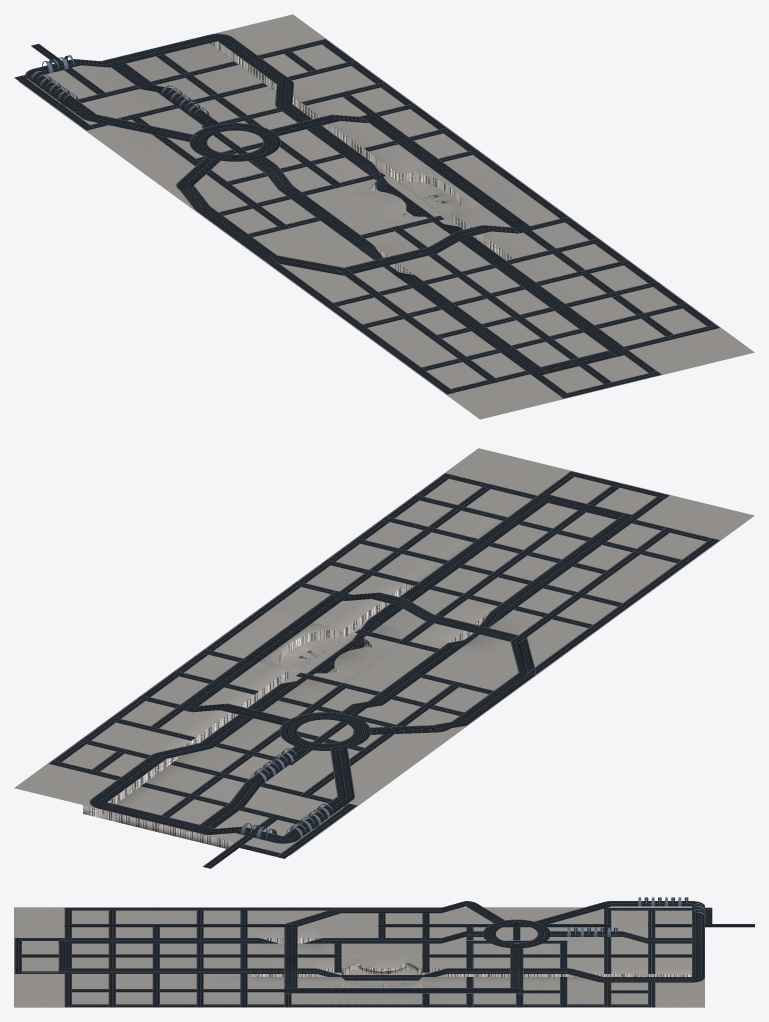
The model's file is OurCity.fbx.
3 views of the same model, one above another, from view 1: azimuth 30°, elevation 25°; view 2: azimuth 150°, elevation 25°; view 3: azimuth 270°, elevation 25° (orthographic). The views are drawn at different scales.
Visible parts, largest first — view 1: Cube, Plane_078; view 2: Cube, Plane_078; view 3: Cube, Plane_078.
Part boxes in pixels (box(x1,y1,x2,y2)): Cube: box(18, 14, 754, 419); Plane_078: box(14, 33, 719, 398); Cube: box(14, 448, 754, 855); Plane_078: box(48, 471, 719, 868); Cube: box(14, 907, 704, 1007); Plane_078: box(14, 901, 754, 1007).
Size of the model in its own units: 648 by 64.25 by 2022.
